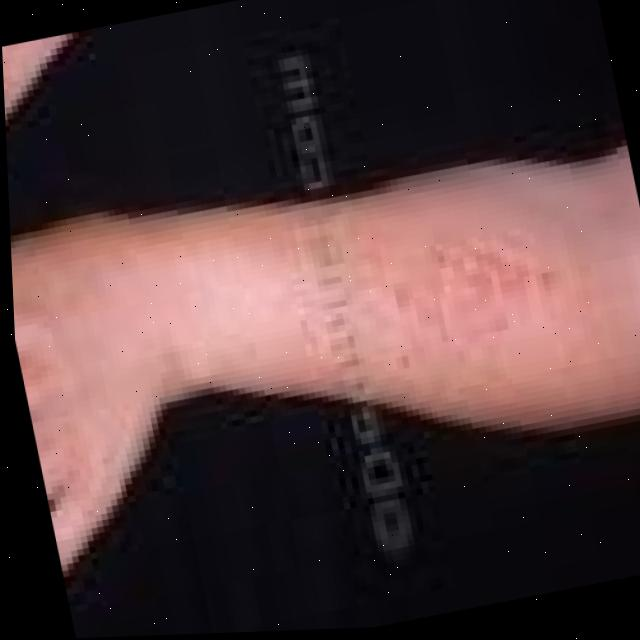Melasma: (392, 222, 539, 345)
